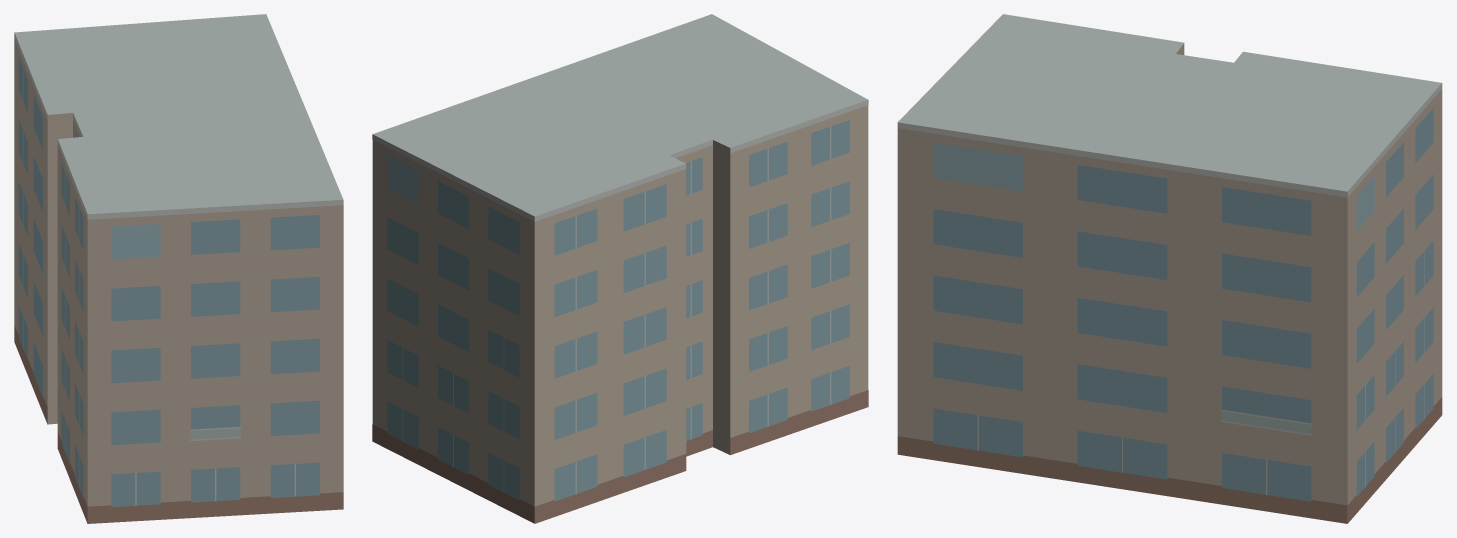
Rendered from survey-upis-32671795.glb.
3 renders of one model, left to right at view 1: azimuth 30°, elevation 25°; view 2: azimuth 150°, elevation 25°; view 3: azimuth 270°, elevation 25°, orthographic. The views are drawn at different scales.
Parts seen in each view (by area): view 1: survey-upis-32671795.tmp; view 2: survey-upis-32671795.tmp; view 3: survey-upis-32671795.tmp.
Boxes of the visible parts, <box> form: survey-upis-32671795.tmp: <box>14,14,343,523</box>; survey-upis-32671795.tmp: <box>372,14,868,523</box>; survey-upis-32671795.tmp: <box>897,14,1442,523</box>.
Bounding box in the file's own units: 15.95 × 13.9 × 20.67.
